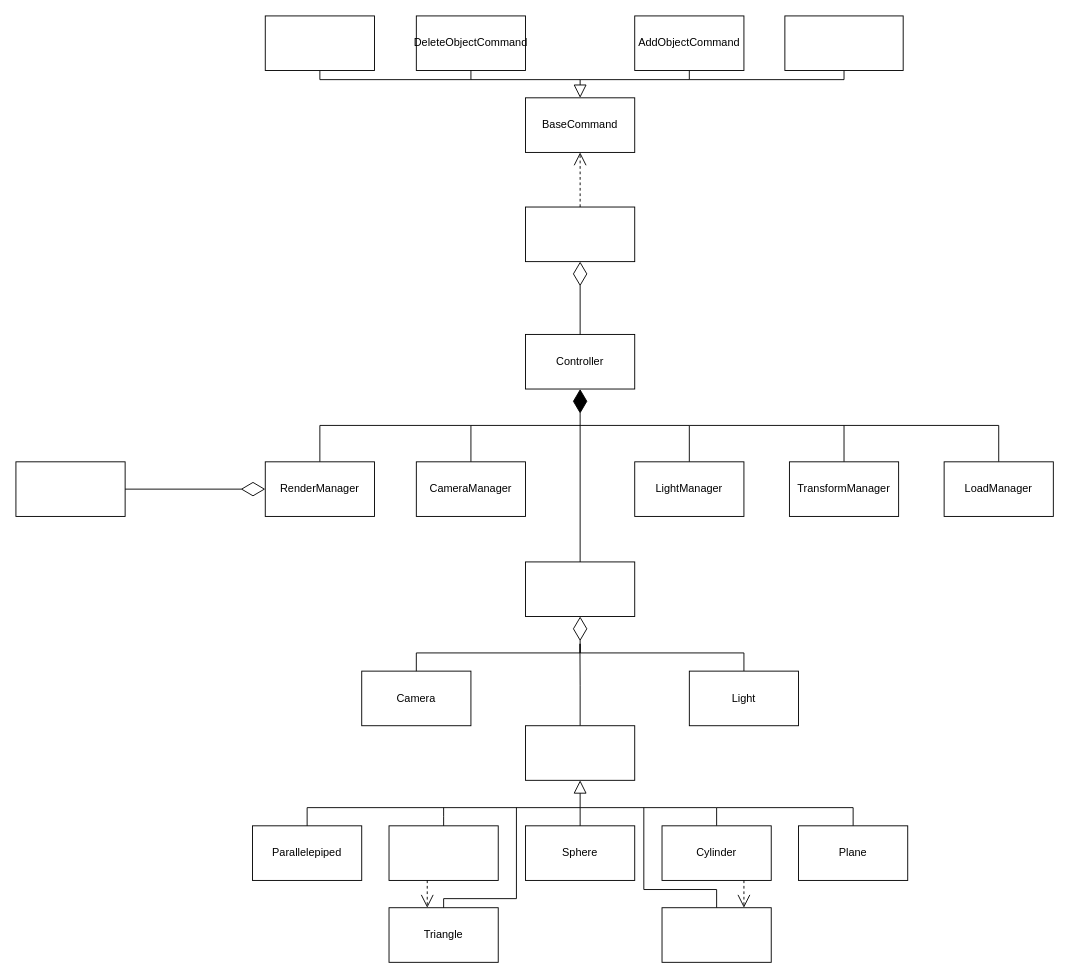
The diagram is 1069 pixels wide and 978 high, and some of its shapes have lost their labels. Each missing label, with the centre of its shape:
DiskPlane: (716,934)
FacadeViewer: (580,234)
Pyramid: (443,852)
RayTracer: (70,488)
RenderCommand: (319,43)
Scene: (580,589)
SceneObject: (580,752)
UpdateObjectCommand: (843,43)
